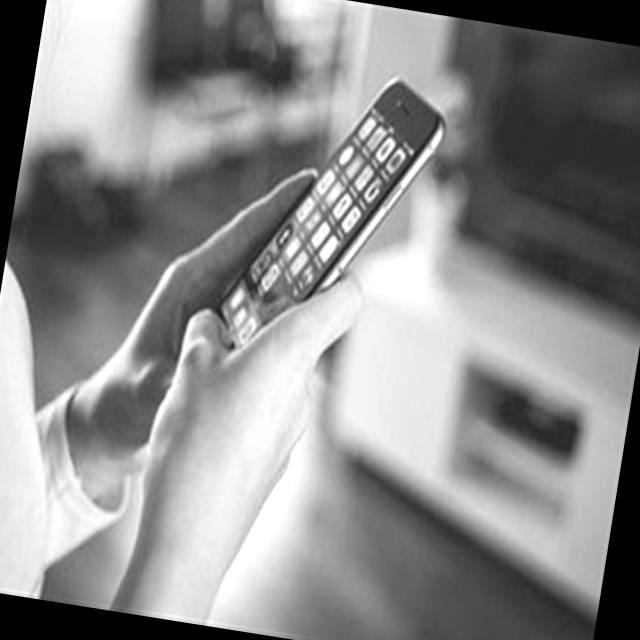phone: (208, 52, 454, 380)
